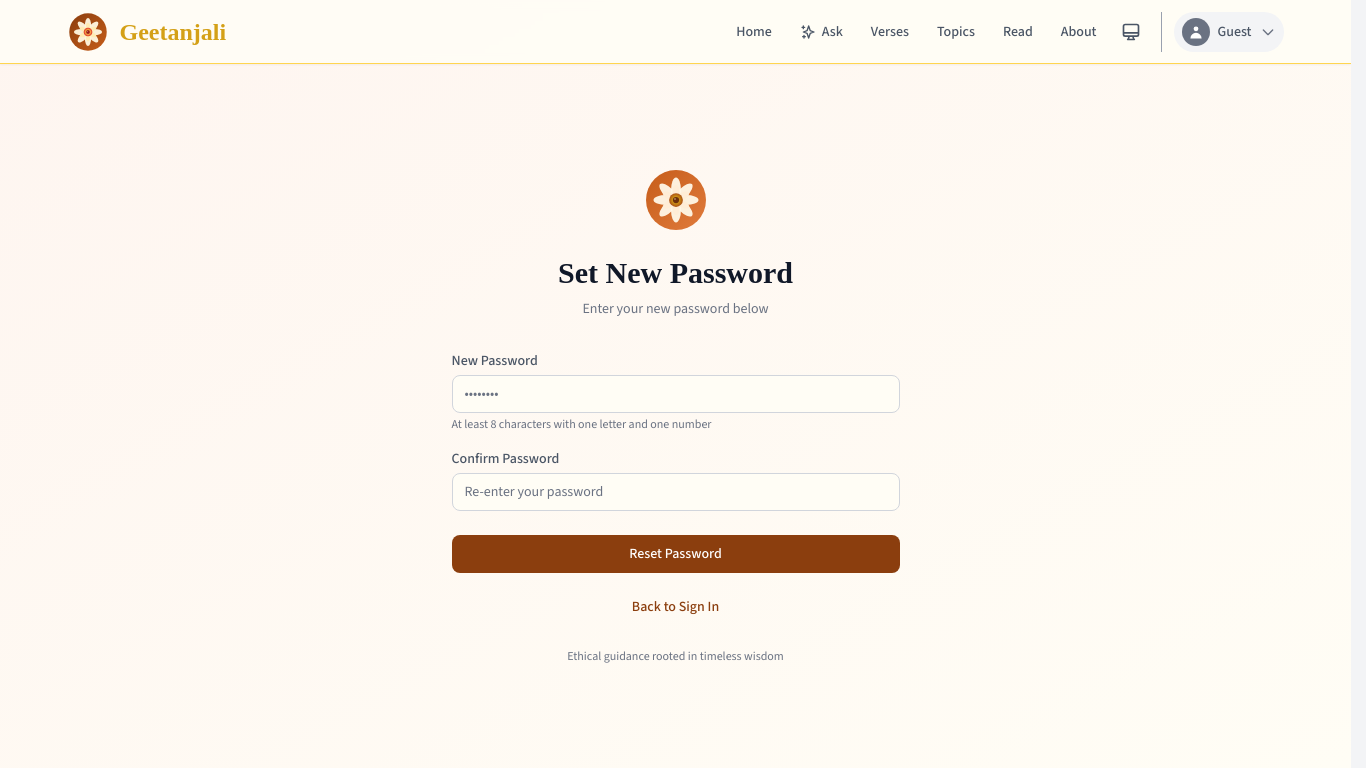
Test: ResetPassword Page › should show success message after successful reset
Type "newpassword123" into the password field labelled "New Password" at (676, 394), box x1=452 y1=374 x2=900 y2=412
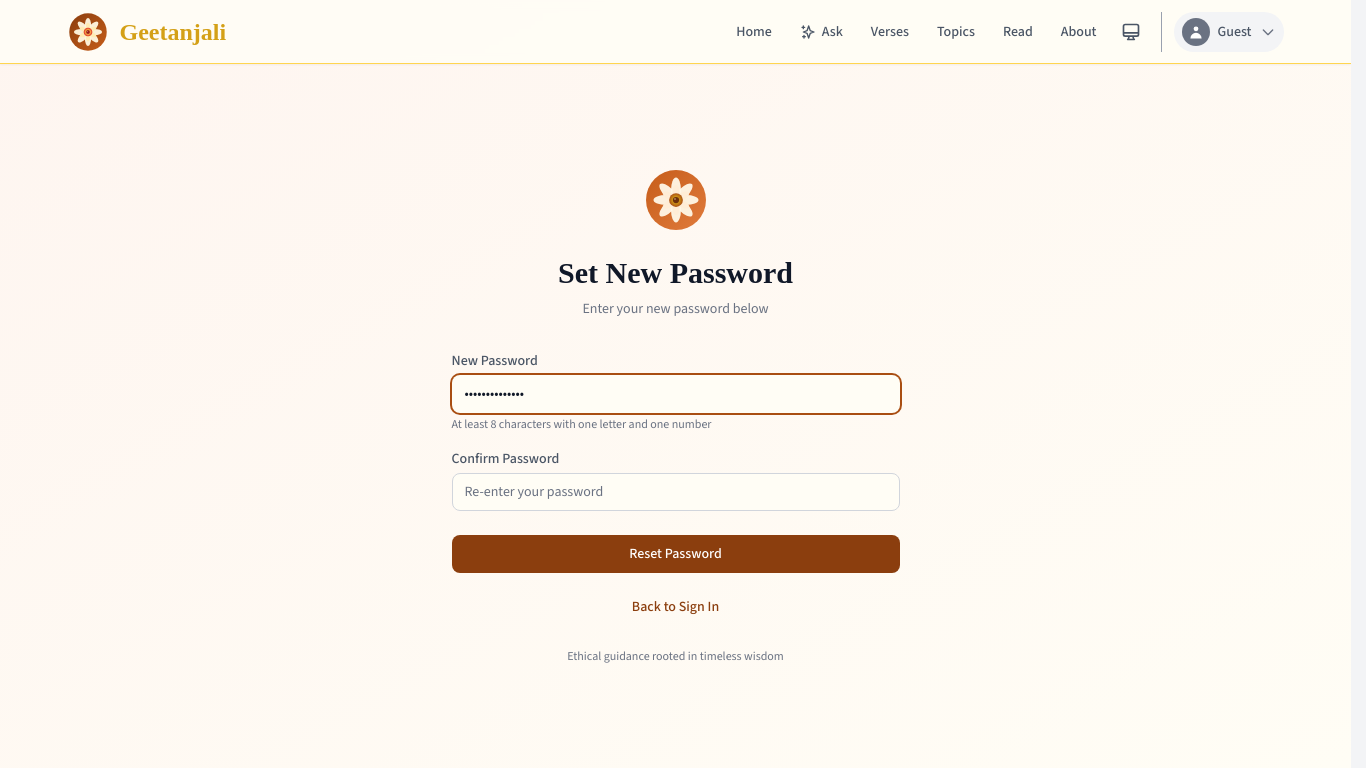
Type "newpassword123" into the password field labelled "Confirm Password" at (676, 492), box x1=452 y1=472 x2=900 y2=510
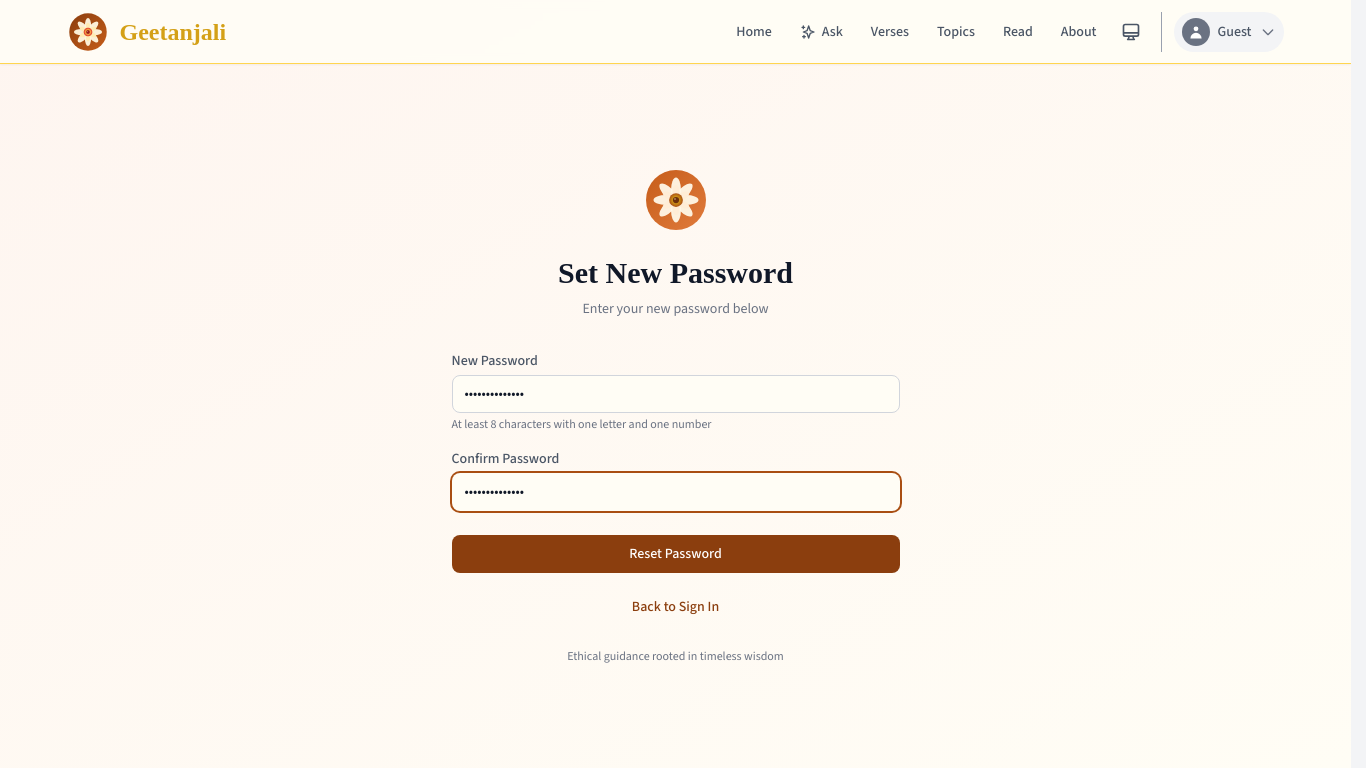
Click the button "Reset Password" at (676, 554), box x1=452 y1=534 x2=900 y2=572
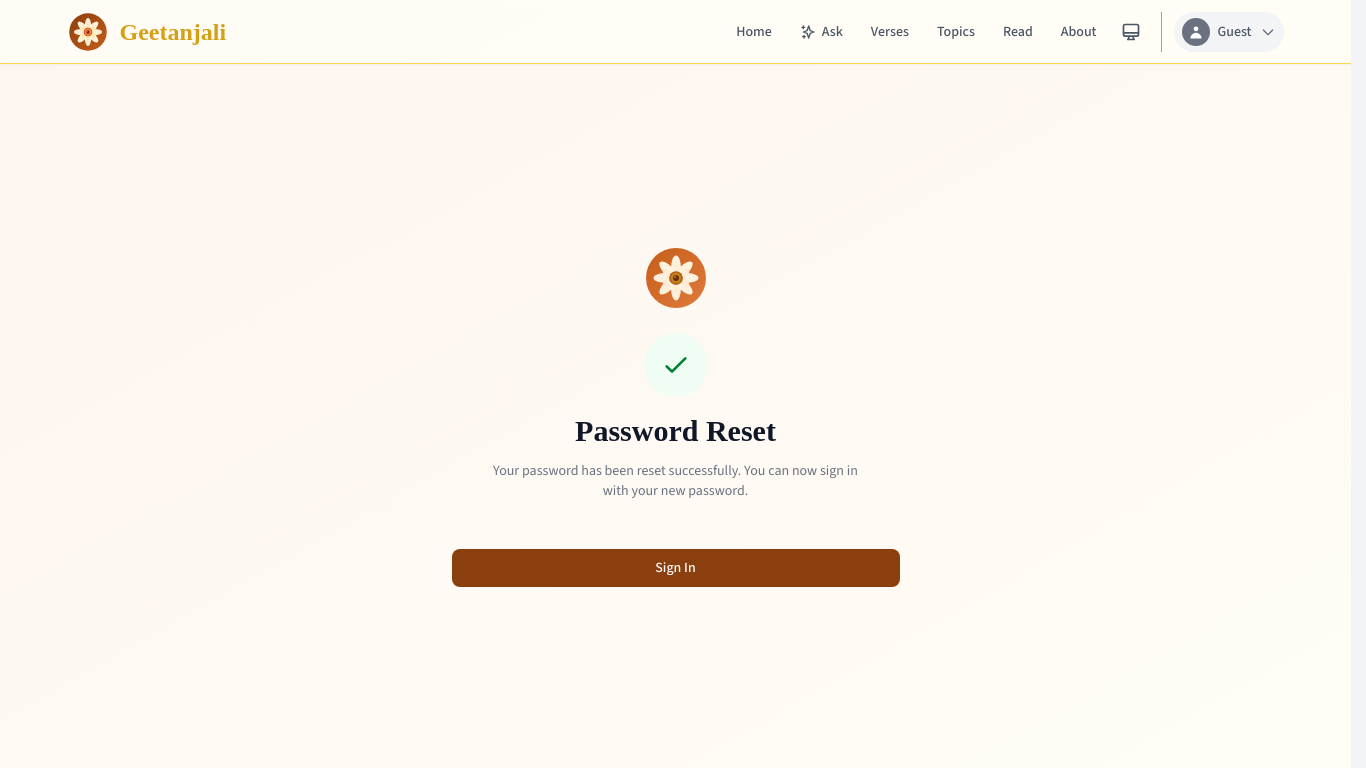
Now the heading "Password Reset" is shown, box x1=575 y1=414 x2=776 y2=446
Now the text "password has been reset successfully" is shown, box x1=493 y1=460 x2=858 y2=500
